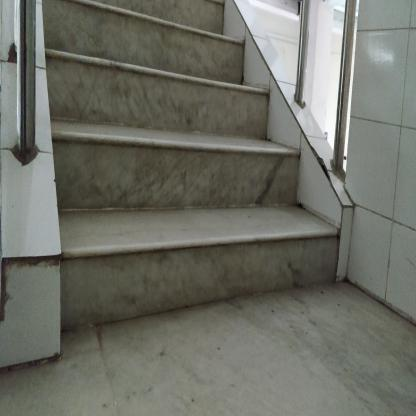stairs: (67, 32, 221, 357)
